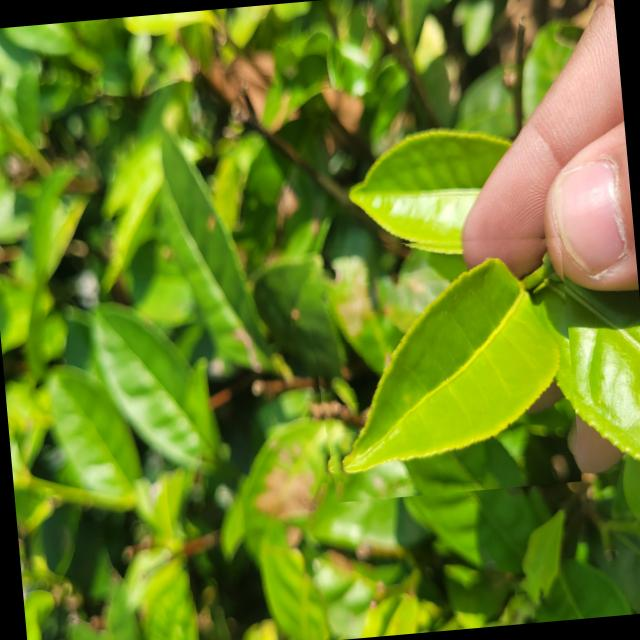Catagory A(1-2 days): (298, 222, 581, 502)
